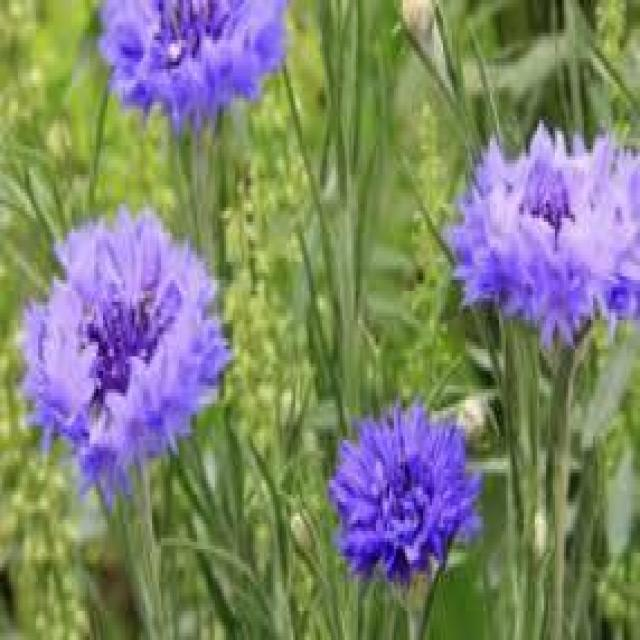organic waste: (23, 207, 220, 509), (455, 111, 637, 358), (320, 398, 495, 595), (87, 0, 304, 127)
